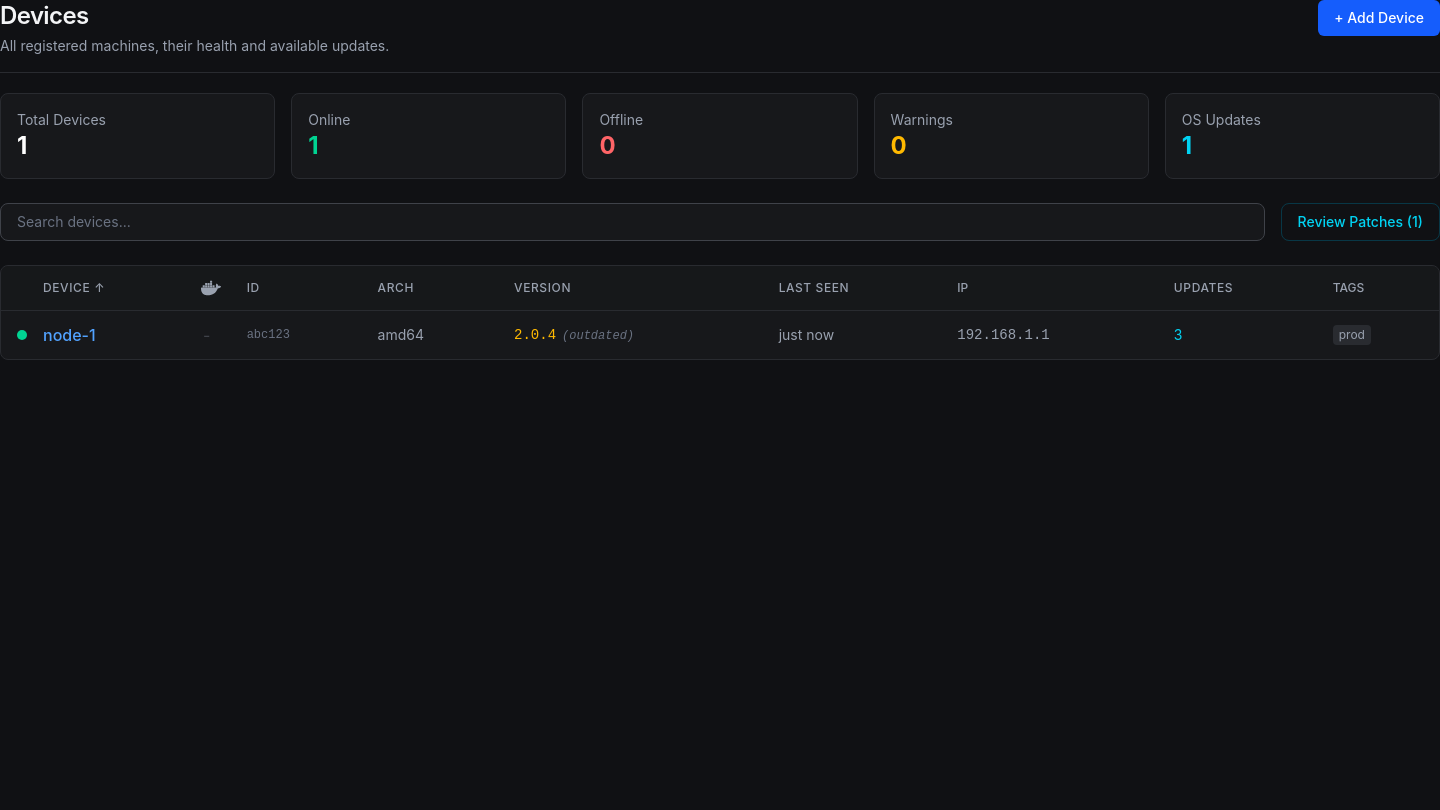
Test: [AC-021] Reboot-class surfaced in patch review › badges reboot-class packages in the expanded package list
Click the button "Review Patches (1)" at (1360, 222), box 1281,203 -> 1439,241
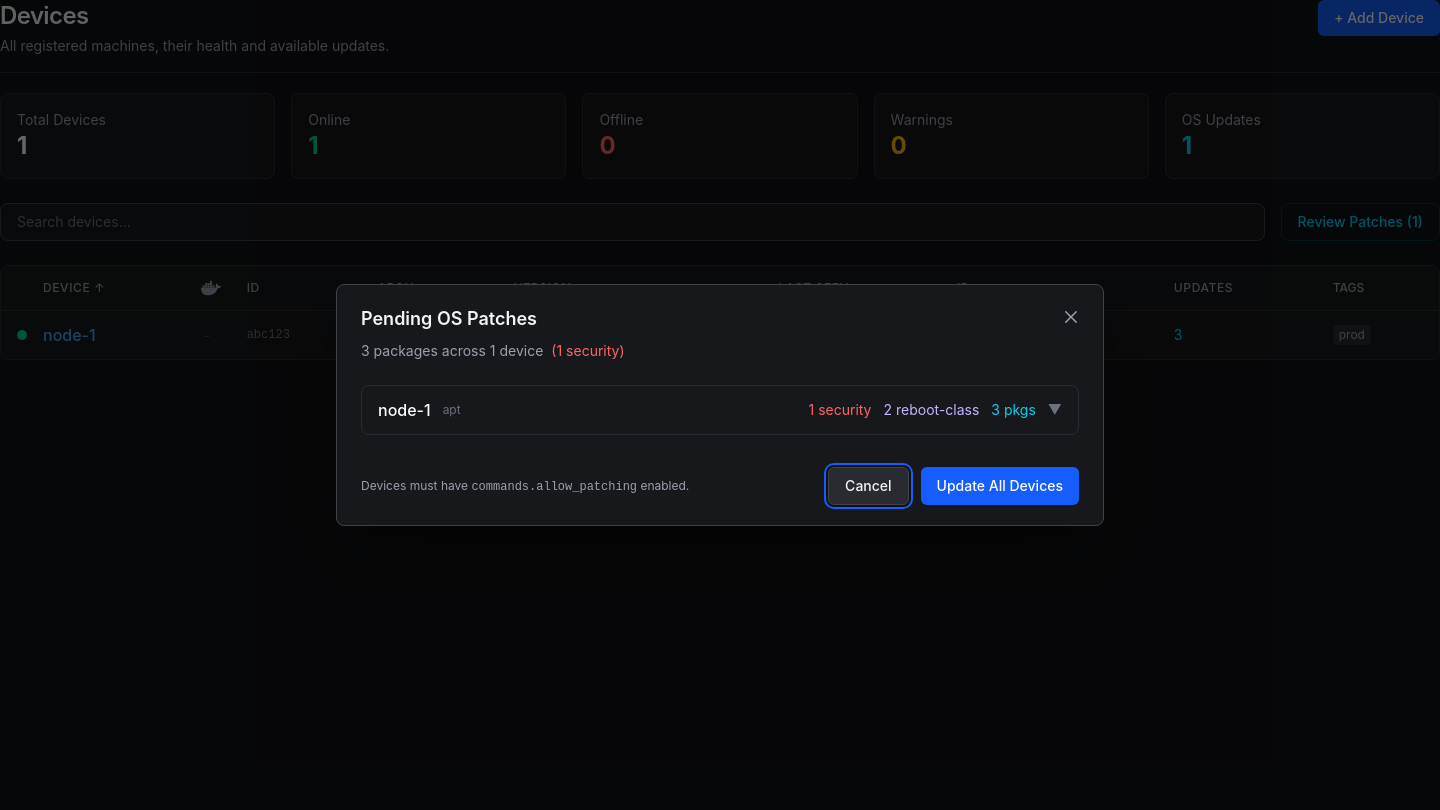
Note: Expand the device row (the modal row button) to reveal its per-package table.
Click the button "node-1 apt 1 security 2 reboot-class 3 pkgs ▼" at (404, 410), box 362,386 -> 1078,434
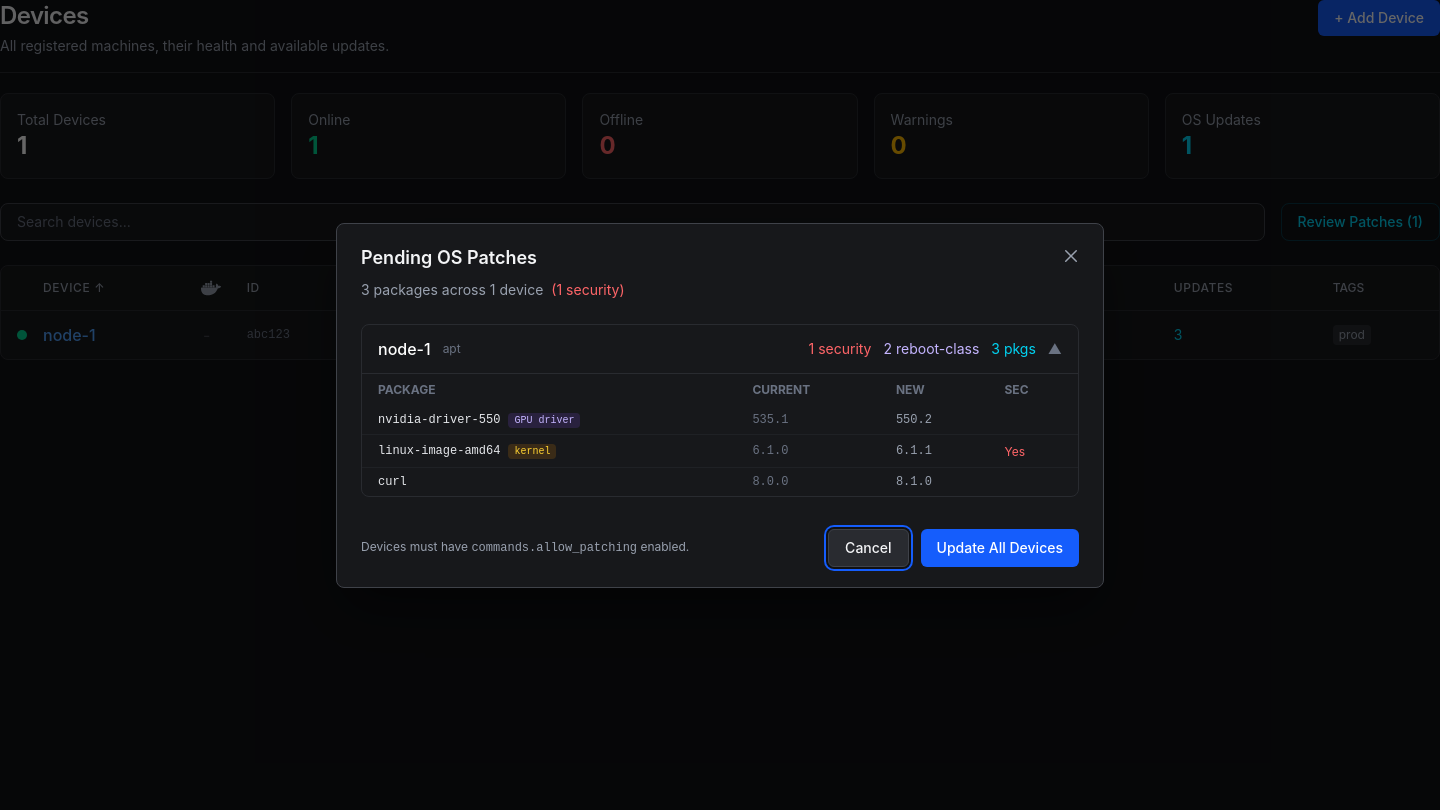
Now the text "nvidia-driver-550" is shown, box 378,412 -> 500,426
Now the text "GPU driver" is shown, box 508,412 -> 580,428
Now the text "kernel" is shown, box 508,444 -> 556,458
